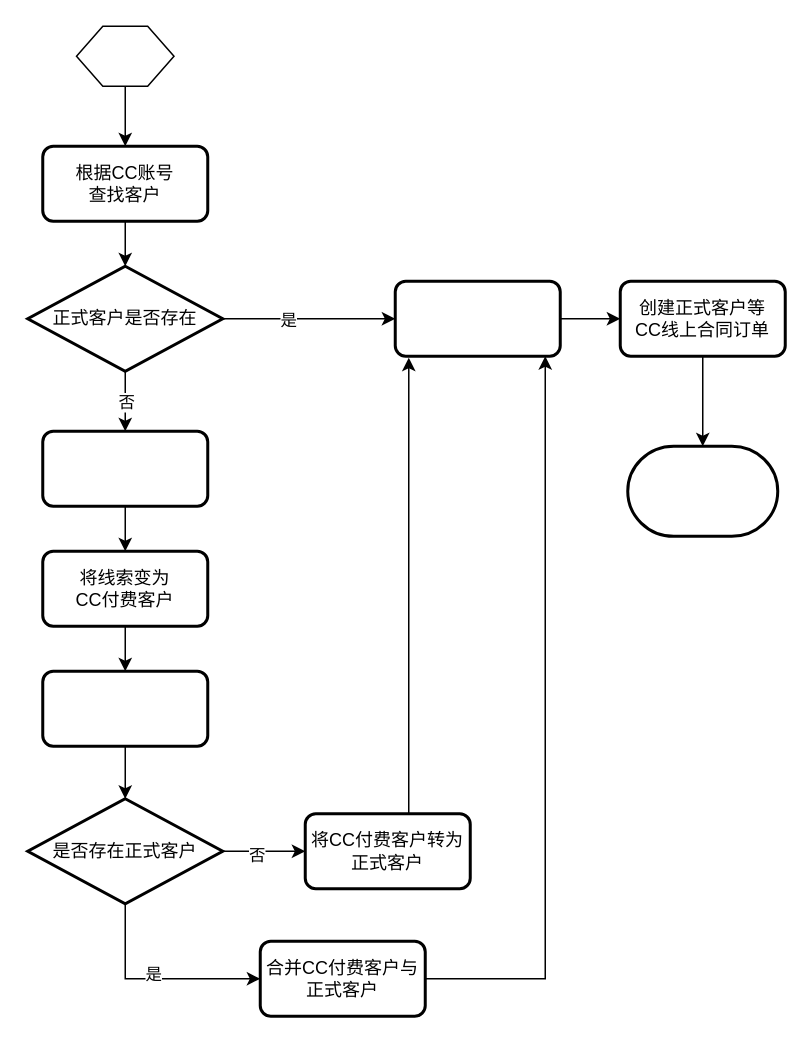
The diagram is 812 pixels wide and 1044 high, and some of its shapes have lost their labels. The centre of each missing label's shape, as x and y in pixels:
"审核" belongs at point 124,708.
"根据CC账号 查找线索" belongs at point 124,468.
"根据邀请码建立合作伙伴关系" belongs at point 477,318.
"结束" belongs at point 702,490.
